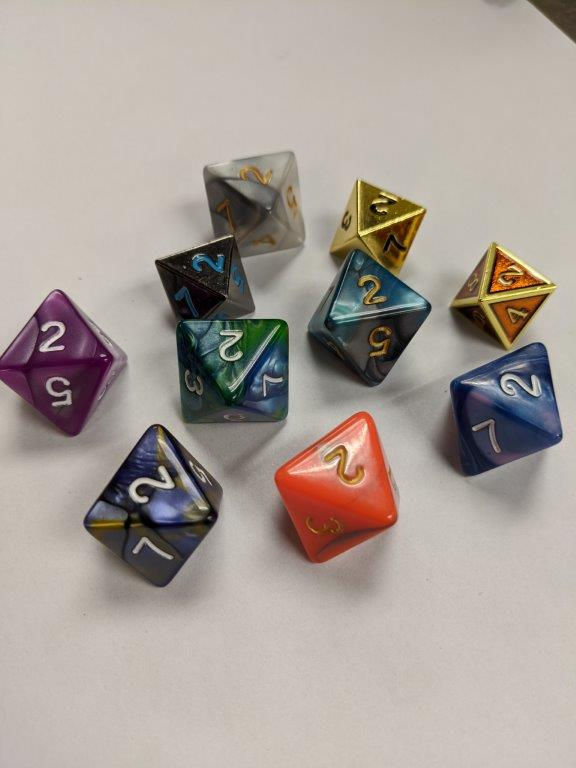d8-2: (83, 422, 222, 590), (274, 408, 403, 567), (1, 285, 129, 432), (309, 247, 432, 388), (451, 343, 565, 475), (203, 147, 308, 263), (174, 317, 289, 420), (448, 240, 556, 349), (329, 176, 427, 277), (156, 235, 258, 329)
